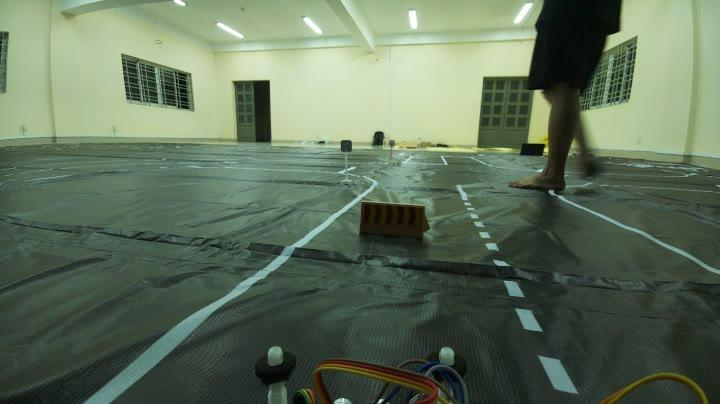roadblock: (347, 187, 442, 256)
